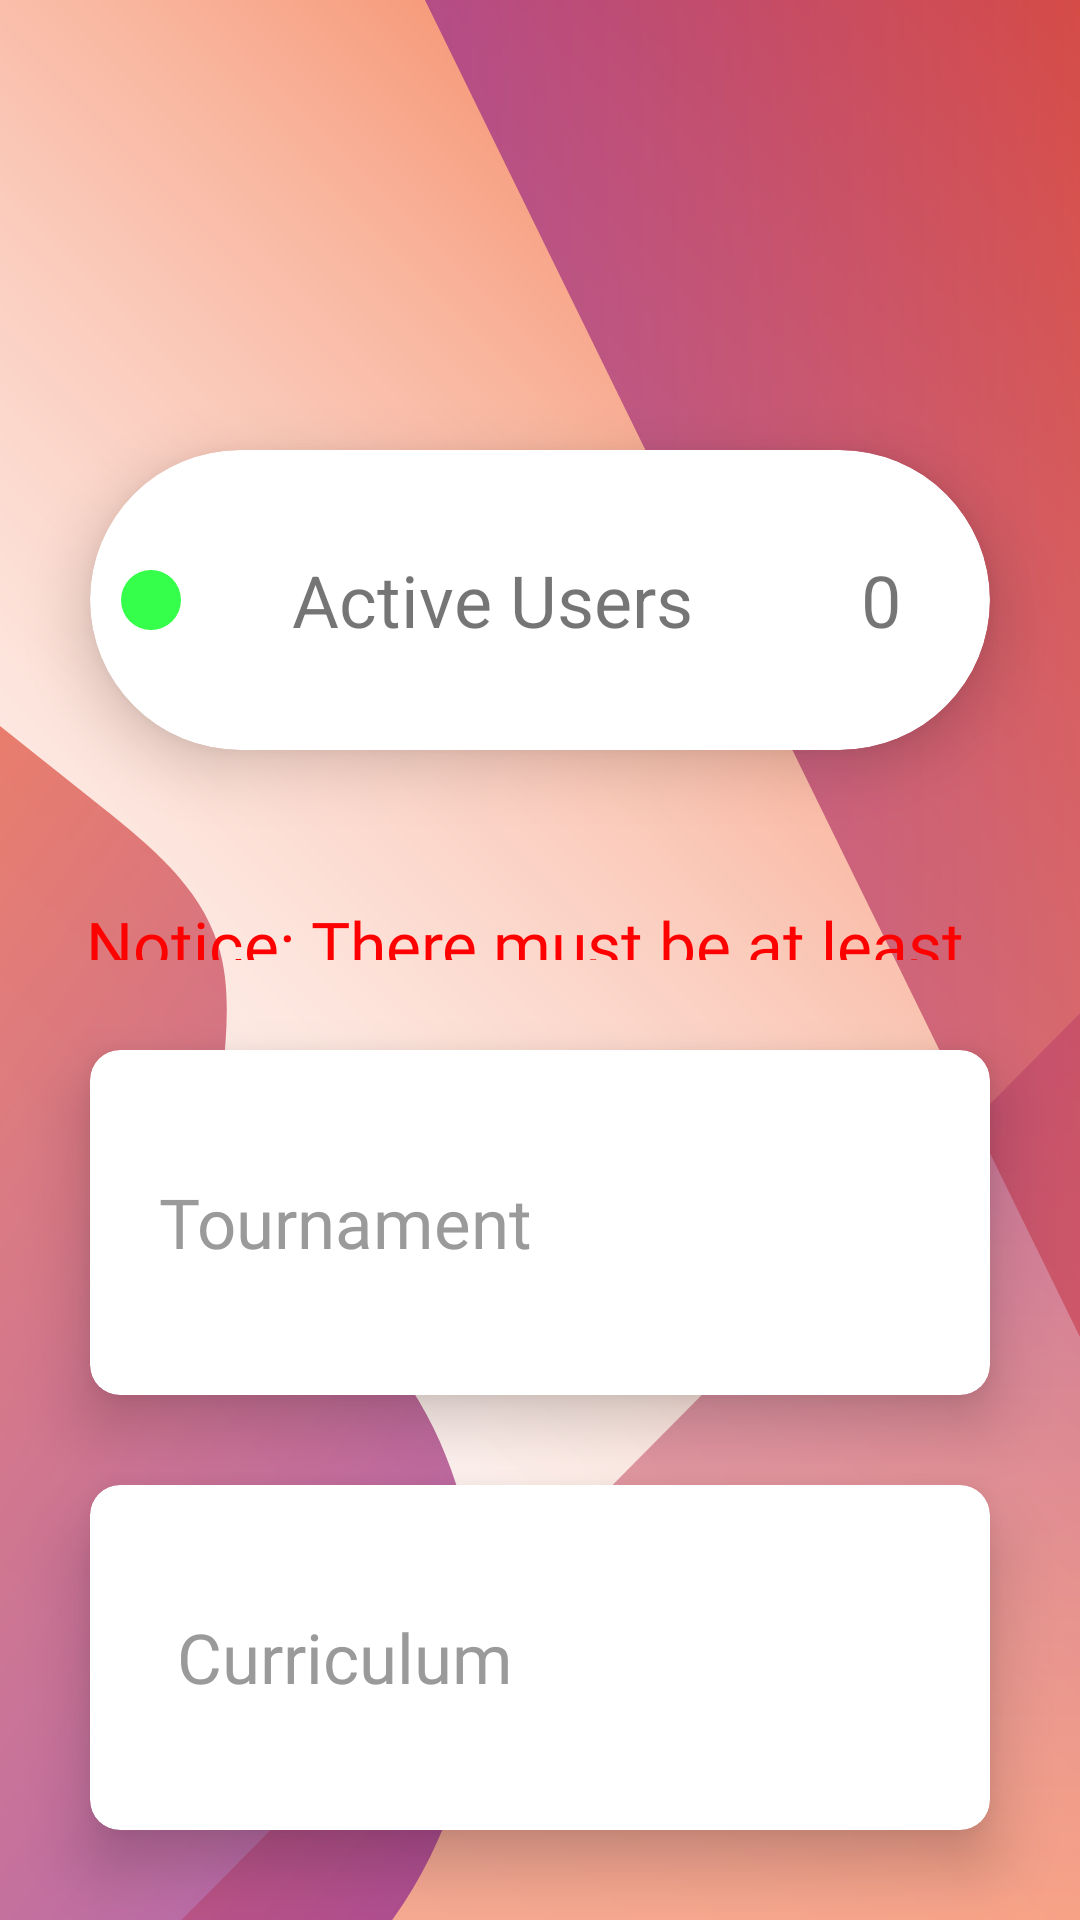

Screen size 1080w x 1920h. Icon name, then its center in pixels as point (x, y):
online: point (151, 600)
